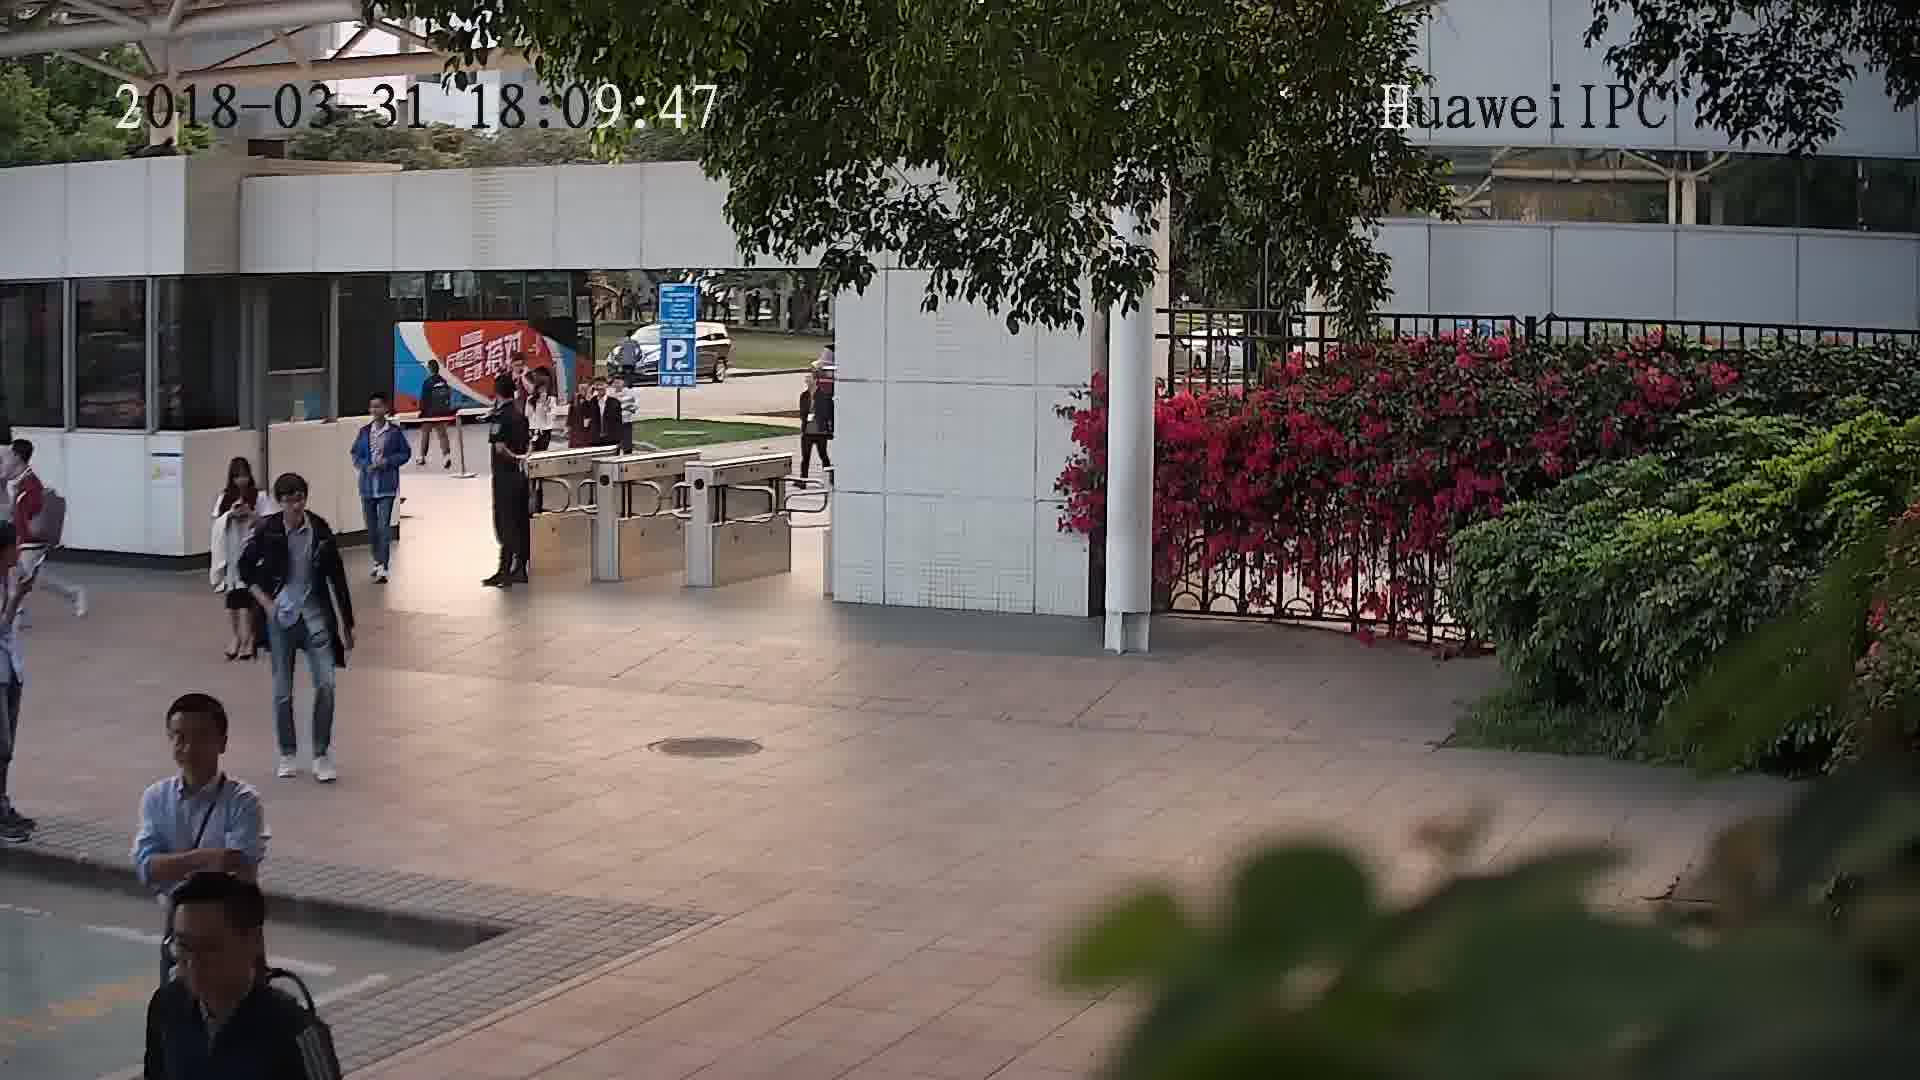face: (166, 901, 262, 997), (160, 709, 227, 776)
person: (145, 867, 324, 1037), (140, 692, 262, 820), (255, 469, 337, 547), (212, 452, 264, 515), (353, 385, 404, 439), (6, 434, 48, 493), (1, 523, 29, 604), (488, 372, 528, 427), (586, 377, 627, 414), (604, 368, 636, 403), (422, 356, 453, 387), (505, 356, 533, 385)
